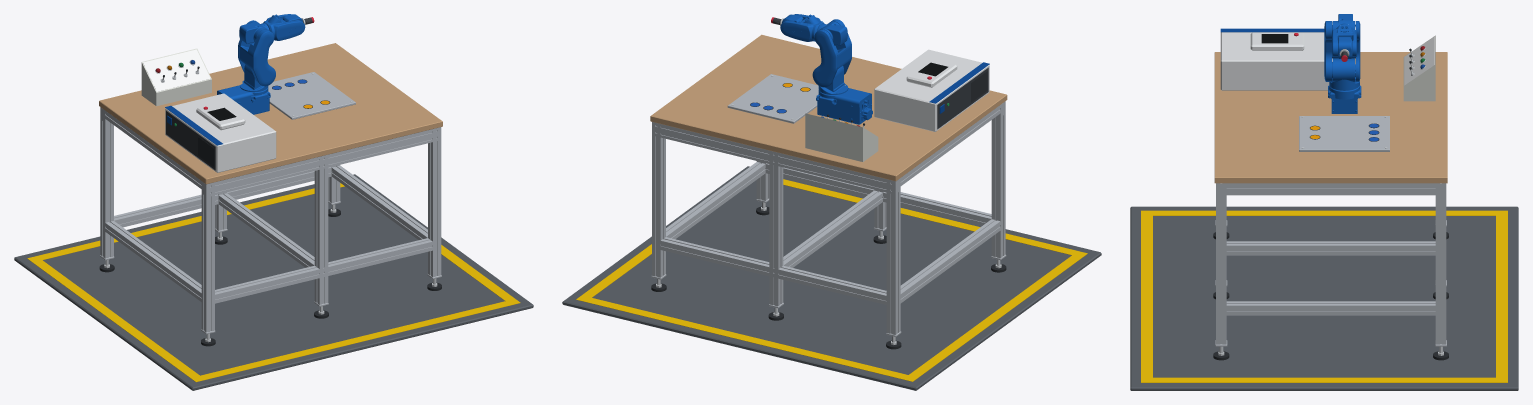
The model's file is motomini.glb.
The picture shows the model from 3 angles, left to right: view 1: azimuth 30°, elevation 25°; view 2: azimuth 150°, elevation 25°; view 3: azimuth 270°, elevation 25°; orthographic projection. The views are drawn at different scales.
Visible parts, largest first — view 1: static_base, static_alu, static_wood, static_warn, static_ctrl, static_white, link_L, static_cabinet, static_yaskawa, static_servo, link_R, static_black; view 2: static_base, static_alu, static_wood, static_warn, static_ctrl, static_cabinet, static_yaskawa, link_L, static_servo, link_R, static_black; view 3: static_base, static_wood, static_alu, static_warn, static_ctrl, static_cabinet, link_L, static_white, link_S, static_yaskawa, static_black, static_yblue (+1 smaller).
Boxes of the visible parts, bbox=[...] form: static_base: bbox=[14, 174, 533, 390]; static_alu: bbox=[100, 72, 441, 334]; static_wood: bbox=[99, 43, 442, 184]; static_warn: bbox=[27, 183, 520, 382]; static_ctrl: bbox=[165, 93, 276, 172]; static_white: bbox=[143, 49, 210, 91]; link_L: bbox=[238, 20, 275, 86]; static_cabinet: bbox=[141, 48, 211, 106]; static_yaskawa: bbox=[217, 83, 270, 114]; static_servo: bbox=[166, 111, 215, 170]; link_R: bbox=[263, 14, 305, 40]; static_black: bbox=[99, 79, 441, 346]; static_base: bbox=[562, 166, 1101, 390]; static_alu: bbox=[651, 74, 1006, 336]; static_wood: bbox=[650, 34, 1007, 181]; static_warn: bbox=[576, 179, 1087, 381]; static_ctrl: bbox=[874, 49, 989, 131]; static_cabinet: bbox=[805, 113, 878, 161]; static_yaskawa: bbox=[816, 85, 872, 124]; link_L: bbox=[812, 19, 851, 87]; static_servo: bbox=[937, 67, 988, 129]; link_R: bbox=[780, 14, 823, 41]; static_black: bbox=[651, 83, 1006, 349]; static_base: bbox=[1130, 206, 1518, 390]; static_wood: bbox=[1214, 52, 1447, 183]; static_alu: bbox=[1215, 116, 1446, 346]; static_warn: bbox=[1141, 210, 1507, 382]; static_ctrl: bbox=[1220, 32, 1332, 90]; static_cabinet: bbox=[1403, 35, 1435, 101]; link_L: bbox=[1324, 21, 1360, 81]; static_white: bbox=[1404, 36, 1434, 85]; link_S: bbox=[1329, 58, 1359, 90]; static_yaskawa: bbox=[1328, 77, 1361, 113]; static_black: bbox=[1213, 123, 1448, 360]; static_yblue: bbox=[1220, 28, 1324, 32].
Size of the model in its own units: 1.6 by 1.16 by 1.45.
